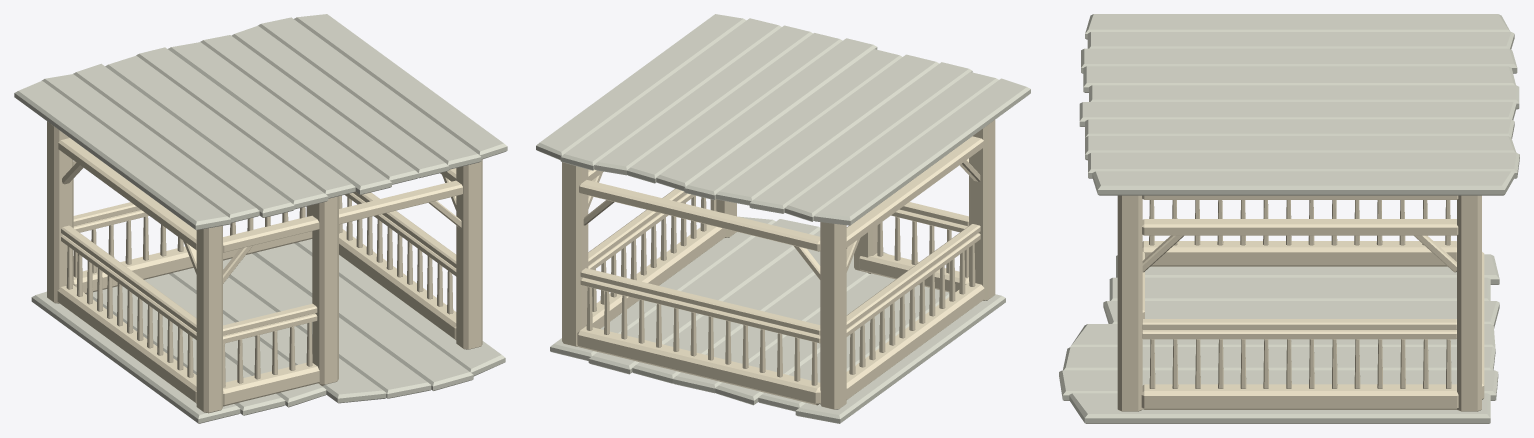
Rendered from farmstractures_08.gltf.
3 renders of one model, left to right at view 1: azimuth 30°, elevation 25°; view 2: azimuth 150°, elevation 25°; view 3: azimuth 270°, elevation 25°, orthographic. The views are drawn at different scales.
Visible parts, largest first — view 1: body, blades; view 2: body, blades; view 3: blades, body.
Part boxes in pixels (box(x1,y1,x2,y2)): body: box(31, 121, 507, 423); blades: box(14, 14, 503, 252); body: box(536, 120, 1005, 423); blades: box(540, 14, 1030, 251); blades: box(1079, 14, 1519, 235); body: box(1059, 14, 1519, 423).
Bounding box in the file's own units: 3.58 × 2.31 × 4.
1 material, 1 textured.
